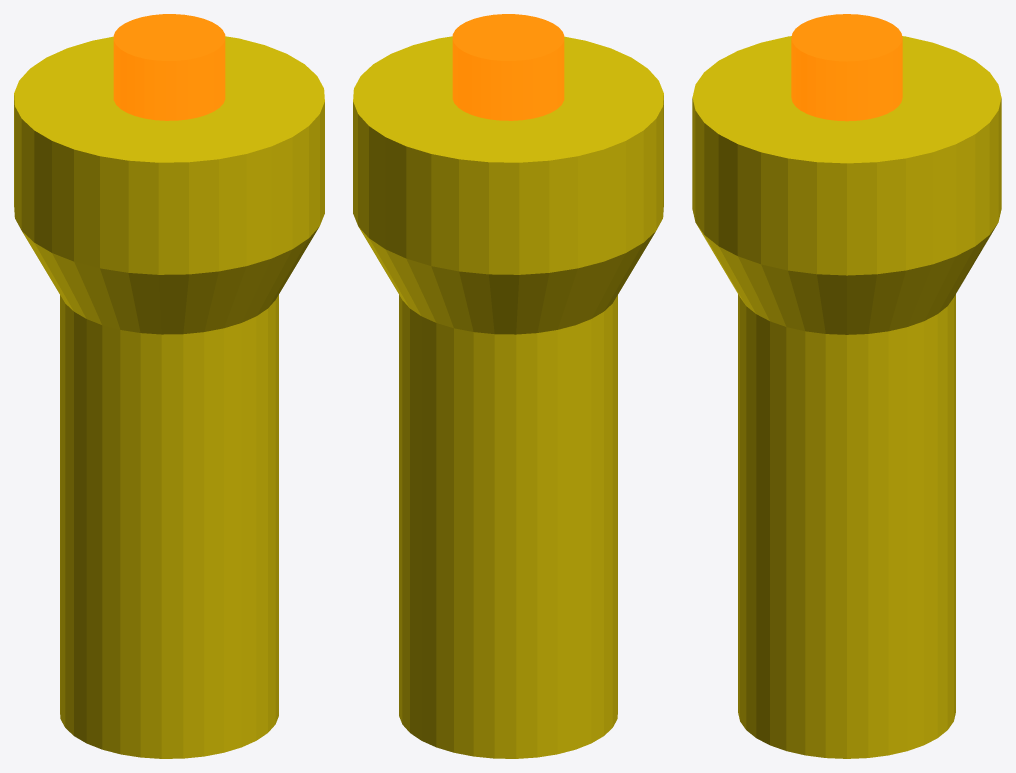
File: airport_lights_1.fbx
3 renders of one model, left to right at view 1: azimuth 30°, elevation 25°; view 2: azimuth 150°, elevation 25°; view 3: azimuth 270°, elevation 25°, orthographic.
Visible parts, largest first — view 1: Cylinder; view 2: Cylinder; view 3: Cylinder.
Boxes of the visible parts, <box> form: Cylinder: <box>14,14,324,758</box>; Cylinder: <box>353,14,663,758</box>; Cylinder: <box>692,14,1001,758</box>.
Bounding box in the file's own units: 7.7 × 18.37 × 7.62.
